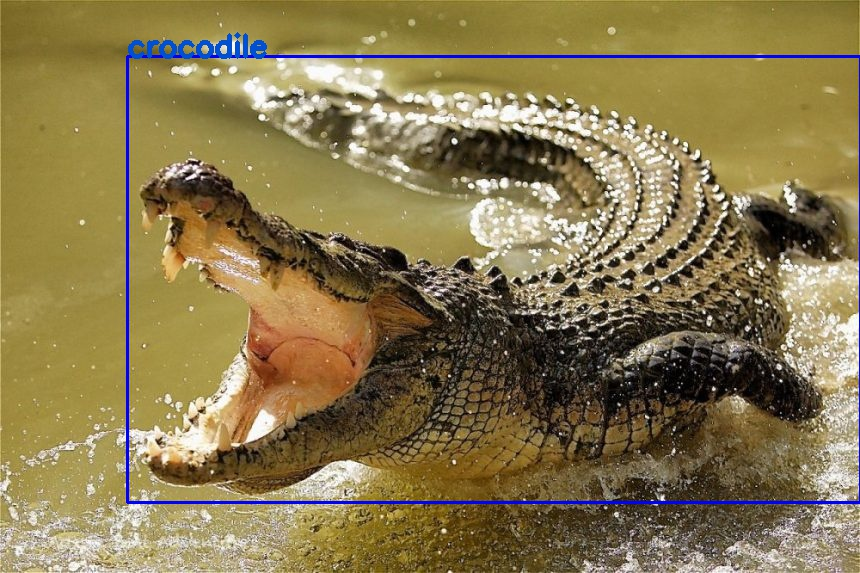crocodile: (126, 55, 860, 502)
